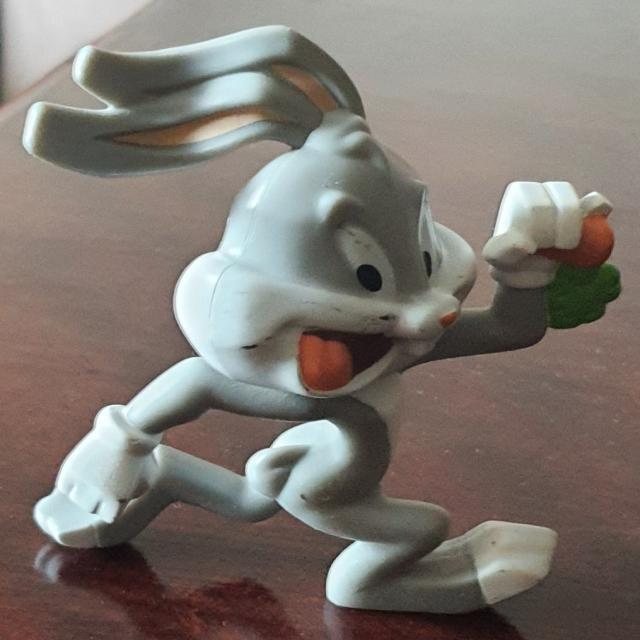Rabbit: (22, 24, 621, 615)
